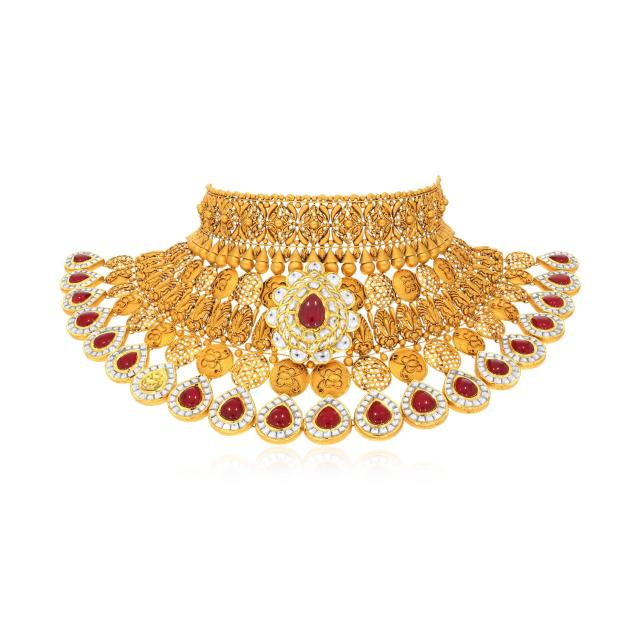missing gem: (142, 371, 164, 391)
